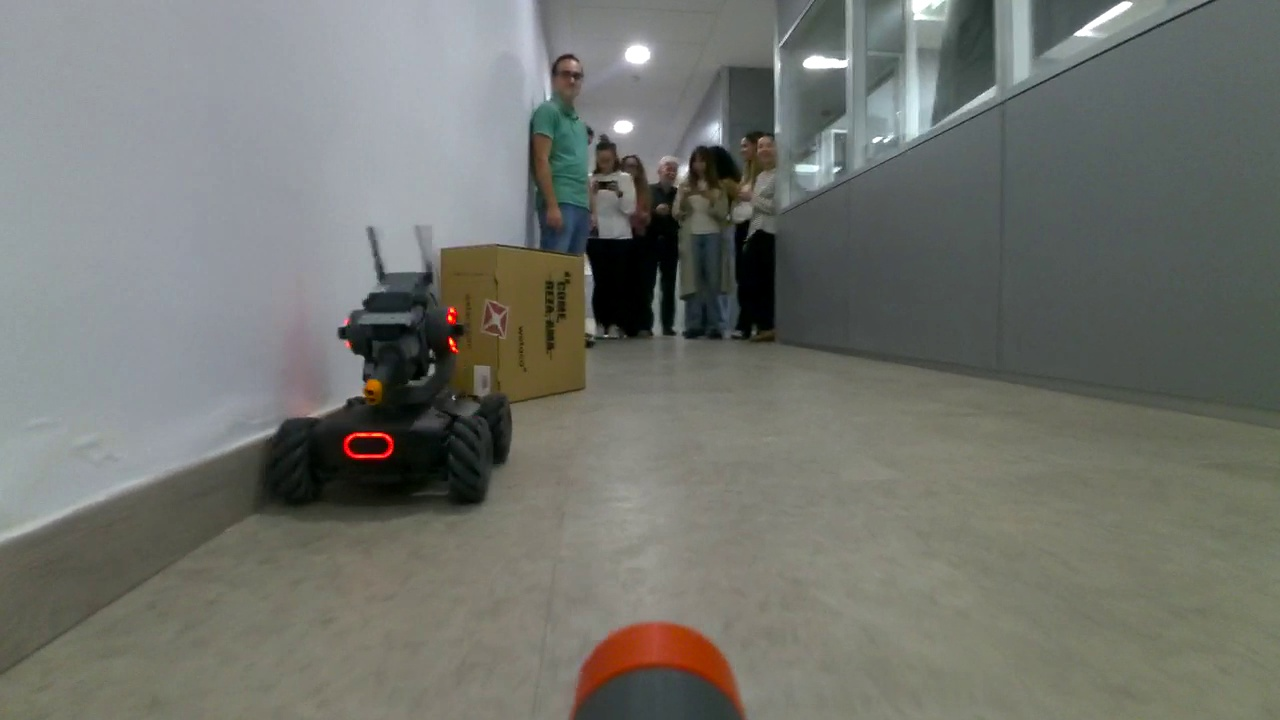robot: (261, 269, 517, 515)
